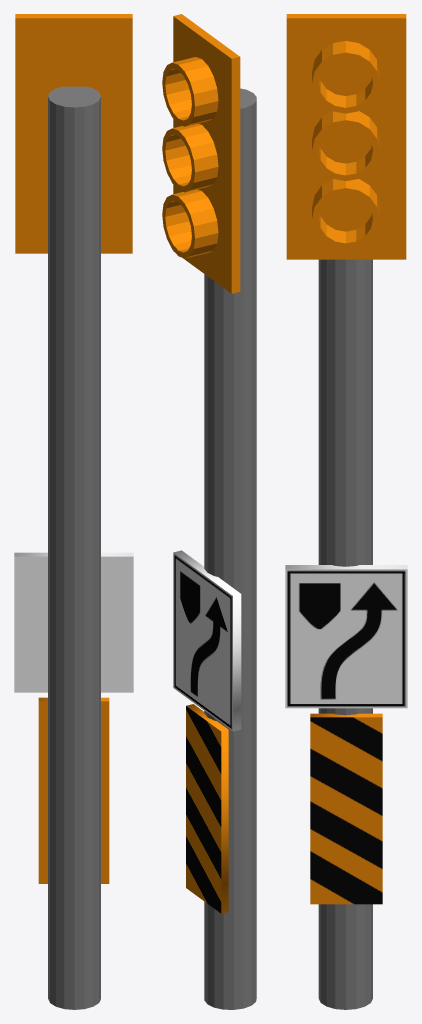
File: traffic_light1.fbx
The picture shows the model from 3 angles, left to right: view 1: azimuth 90°, elevation 25°; view 2: azimuth 210°, elevation 25°; view 3: azimuth 270°, elevation 25°; orthographic projection. The views are drawn at different scales.
Parts seen in each view (by area): view 1: Cylinder.009; view 2: Cylinder.009; view 3: Cylinder.009.
Boxes of the visible parts, bbox=[...] form: Cylinder.009: bbox=[14, 14, 133, 1009]; Cylinder.009: bbox=[162, 14, 256, 1009]; Cylinder.009: bbox=[285, 14, 407, 1009].
Bounding box in the file's own units: 63.27 × 783 × 87.3.
